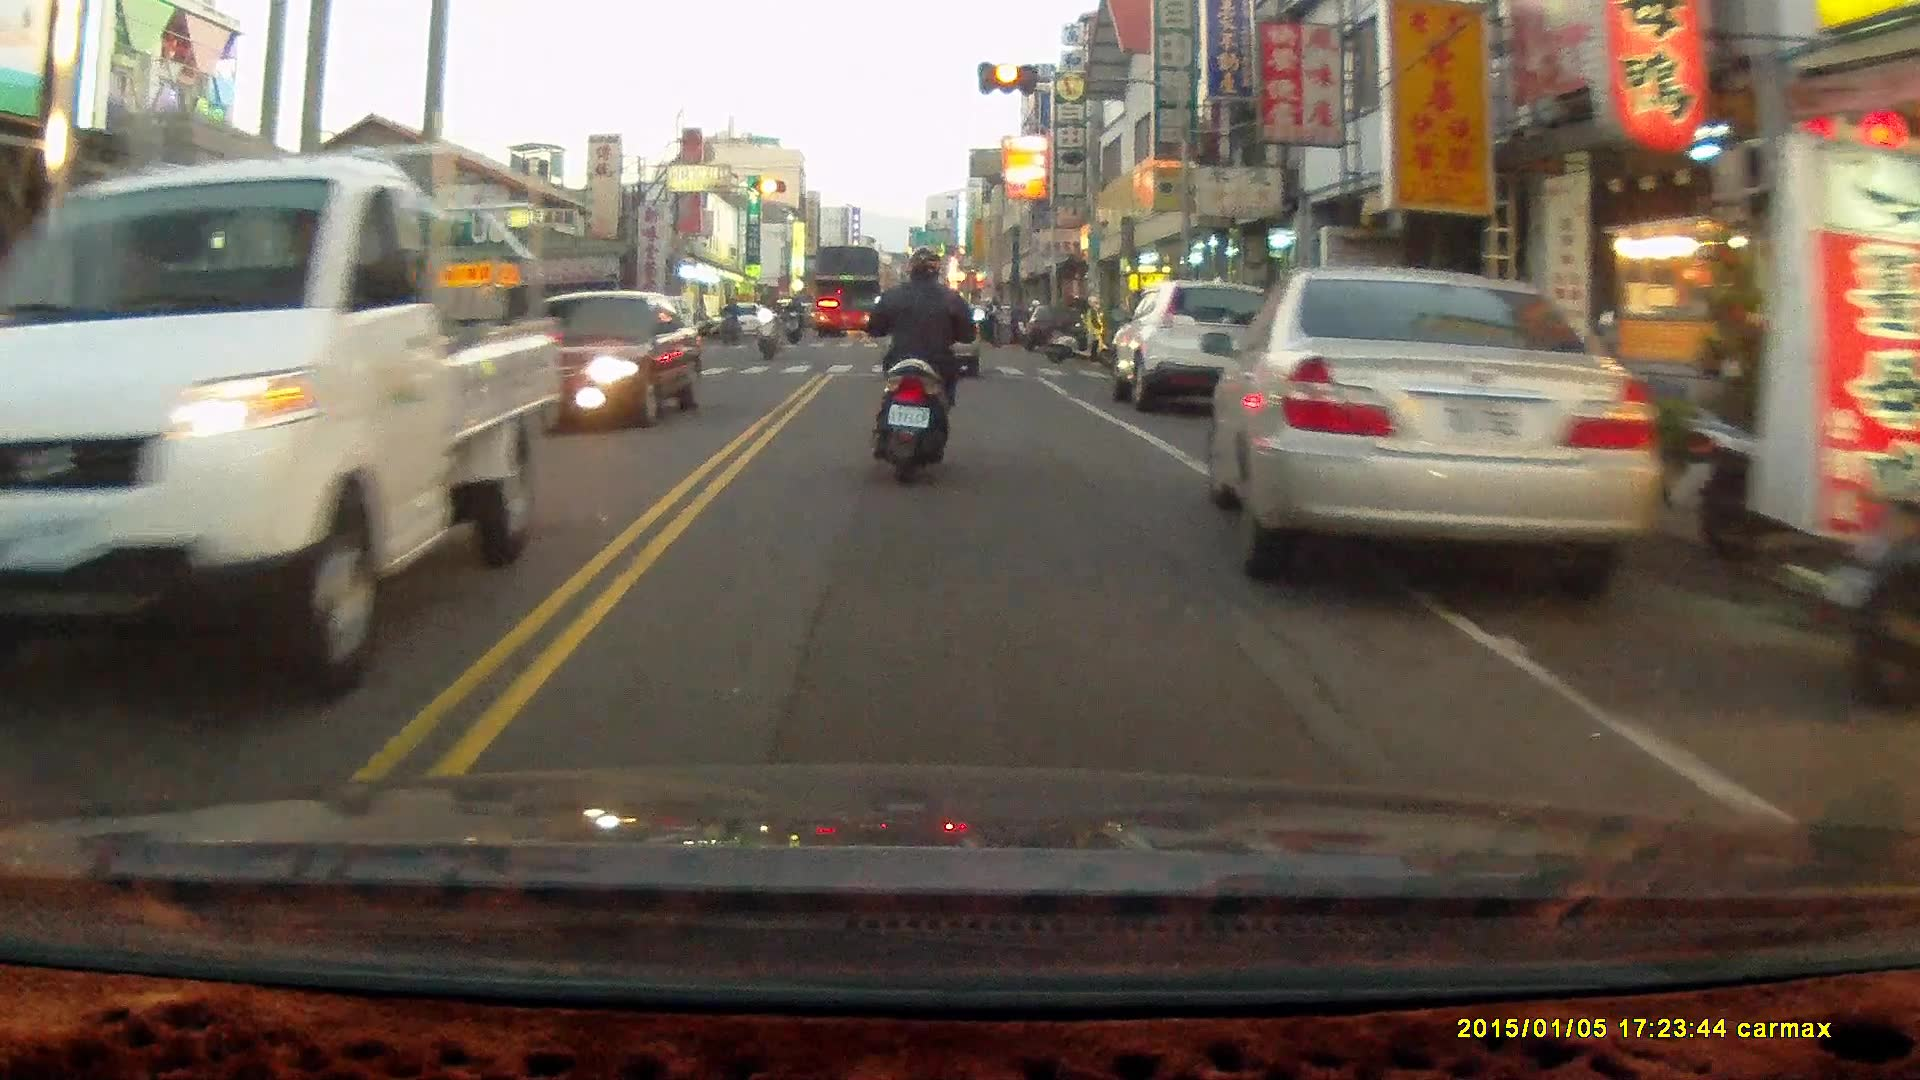pedestrian: (1082, 291, 1106, 366)
rider: (864, 247, 987, 485), (752, 285, 781, 358), (719, 293, 741, 347), (785, 291, 805, 347)
vehicle: (21, 153, 543, 715), (1203, 267, 1640, 606), (493, 290, 709, 438), (1113, 278, 1281, 411), (809, 247, 890, 337)
